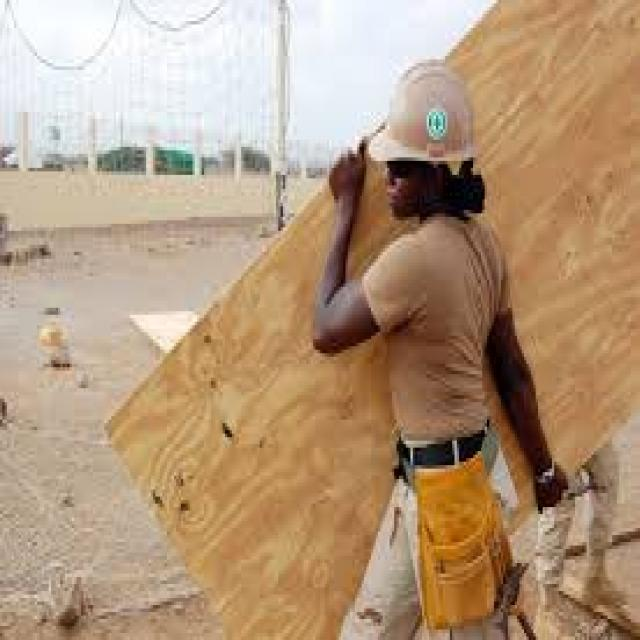Safety-Helmet: (366, 52, 487, 186)
